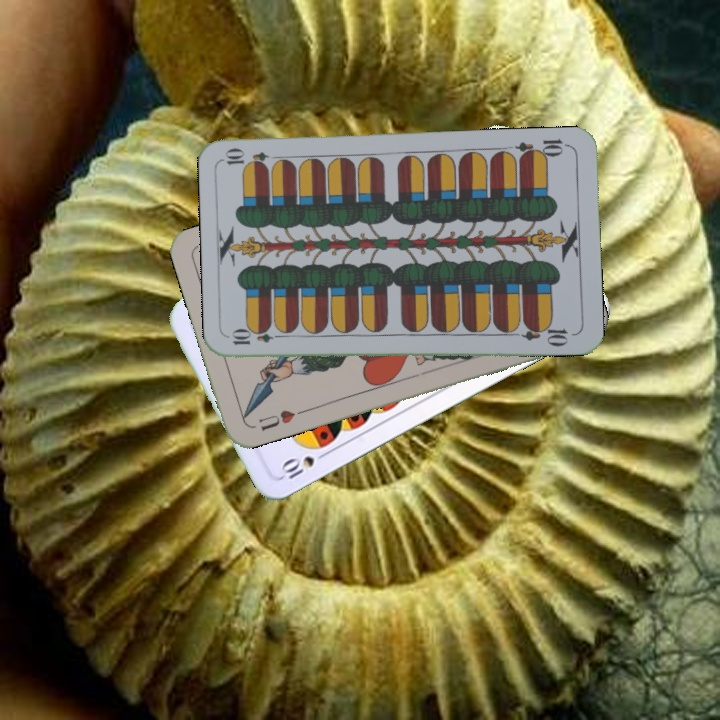E10: (512, 135, 572, 162), (228, 328, 287, 348)
HU: (254, 406, 307, 434)
S10: (276, 447, 332, 482)
